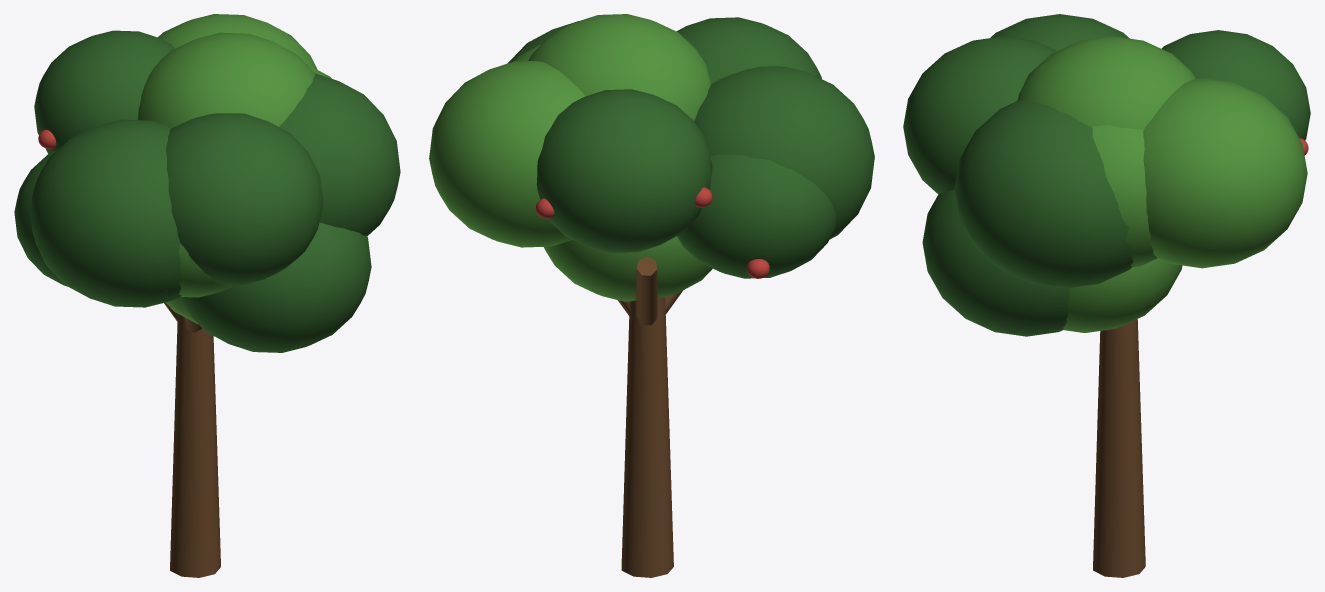
File: arbre_prairie_3.glb
The picture shows the model from 3 angles, left to right: view 1: azimuth 30°, elevation 25°; view 2: azimuth 150°, elevation 25°; view 3: azimuth 270°, elevation 25°; orthographic projection. The views are drawn at different scales.
Visible parts, largest first — view 1: feuillage_feuille_sombre.012, feuillage_feuille.012, tronc.012; view 2: feuillage_feuille_sombre.012, feuillage_feuille.012, tronc.012, branches_ecorce.006, fruits_rouge.002; view 3: feuillage_feuille_sombre.012, feuillage_feuille.012, tronc.012.
Boxes of the visible parts, x1,y1,x2,y2 form: feuillage_feuille_sombre.012: [14, 30, 400, 352]; feuillage_feuille.012: [137, 14, 331, 324]; tronc.012: [170, 314, 220, 577]; feuillage_feuille_sombre.012: [507, 17, 874, 278]; feuillage_feuille.012: [429, 14, 712, 301]; tronc.012: [621, 297, 673, 577]; branches_ecorce.006: [617, 256, 682, 325]; fruits_rouge.002: [535, 187, 769, 278]; feuillage_feuille_sombre.012: [903, 14, 1310, 336]; feuillage_feuille.012: [1017, 36, 1307, 332]; tronc.012: [1093, 319, 1145, 577].
Bounding box in the file's own units: 2.28 × 3.27 × 2.25.
